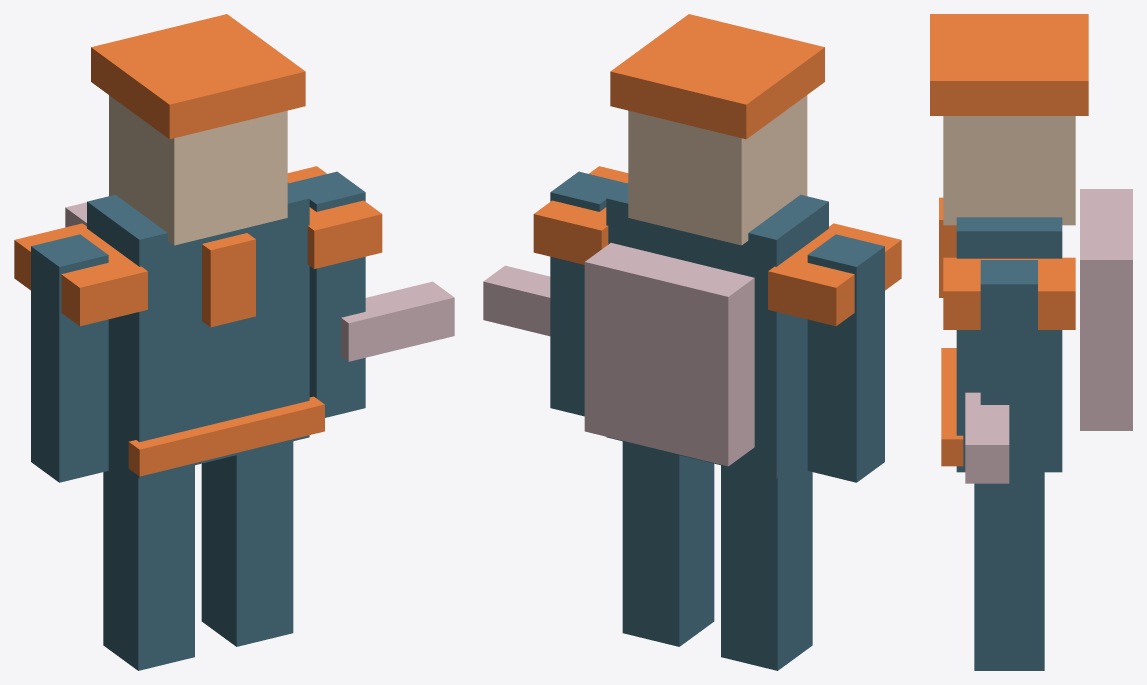
Rendered from 18_keir_cragwarden_mechanist_at_outer.glb.
3 renders of one model, left to right at view 1: azimuth 30°, elevation 25°; view 2: azimuth 150°, elevation 25°; view 3: azimuth 270°, elevation 25°, orthographic.
Visible parts, largest first — view 1: Keir Cragwarden, Mechanist at Outer; view 2: Keir Cragwarden, Mechanist at Outer; view 3: Keir Cragwarden, Mechanist at Outer.
Boxes of the visible parts, x1=… form: Keir Cragwarden, Mechanist at Outer: x1=14, y1=14, x2=454, y2=670; Keir Cragwarden, Mechanist at Outer: x1=483, y1=14, x2=901, y2=670; Keir Cragwarden, Mechanist at Outer: x1=930, y1=14, x2=1132, y2=670.
Size of the model in its own units: 0.9762 by 1.4 by 0.4381.
